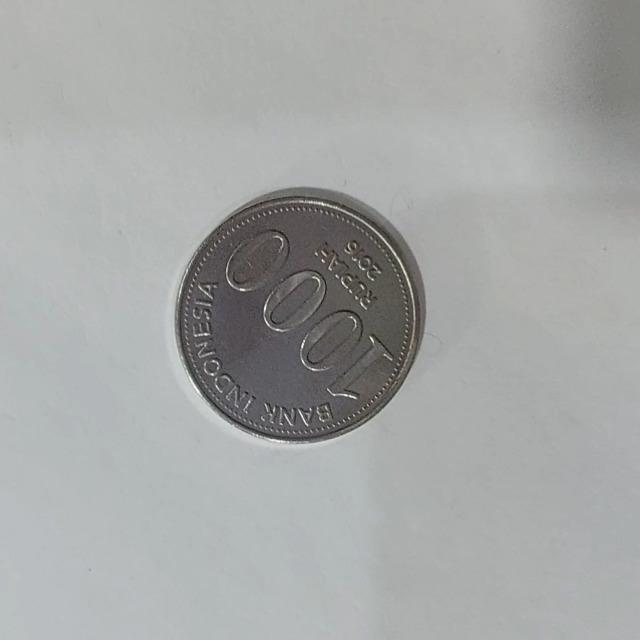Rp100: (172, 185, 427, 444)
